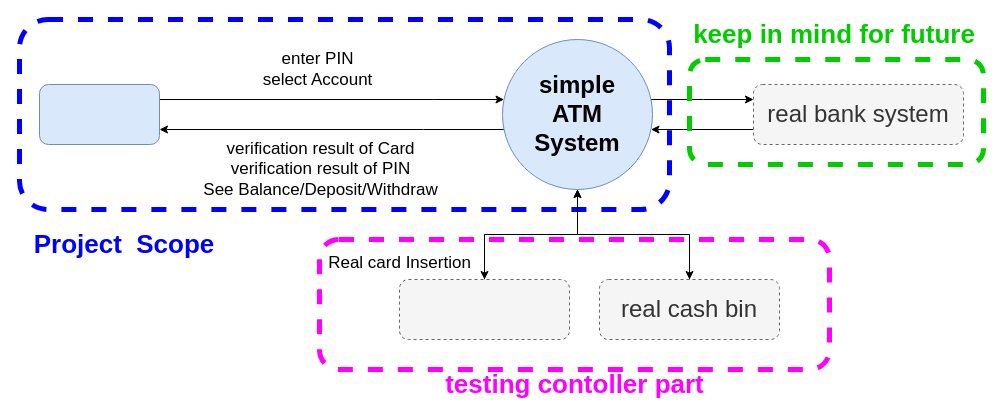
This 1007x417 diagram has some shape labels left out. Each missing label, with the box of its shape:
Card Reader: (398, 278, 570, 340)
Display: (38, 84, 160, 144)
